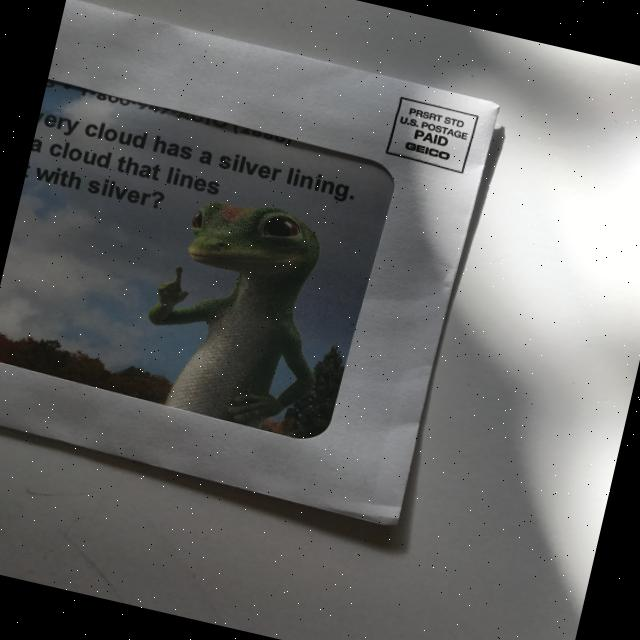paper: (0, 0, 502, 529)
